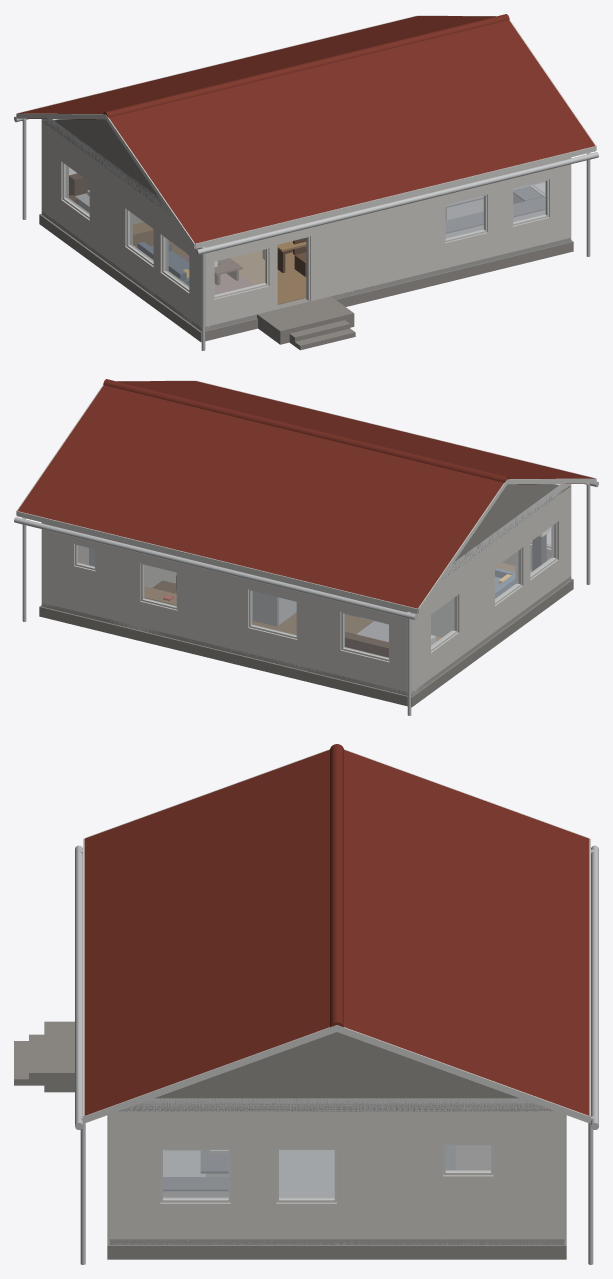
File: house.glb
3 views of the same model, one above another, from view 1: azimuth 30°, elevation 25°; view 2: azimuth 150°, elevation 25°; view 3: azimuth 270°, elevation 25° (orthographic). The views are drawn at different scales.
Parts seen in each view (by area): view 1: Web_House, Glass_South, Glass_West; view 2: Web_House, Glass_North, Glass_West; view 3: Web_House, Glass_East.
Boxes of the visible parts, x1=… form: Web_House: x1=14, y1=14, x2=598, y2=350; Glass_South: x1=215, y1=181, x2=545, y2=295; Glass_West: x1=66, y1=165, x2=188, y2=287; Web_House: x1=14, y1=379, x2=598, y2=715; Glass_North: x1=78, y1=545, x2=388, y2=658; Glass_West: x1=431, y1=525, x2=553, y2=647; Web_House: x1=14, y1=744, x2=598, y2=1264; Glass_East: x1=163, y1=1145, x2=490, y2=1198.
Size of what is drawn, in the model's own units: 13.06 by 5.41 by 11.59.
